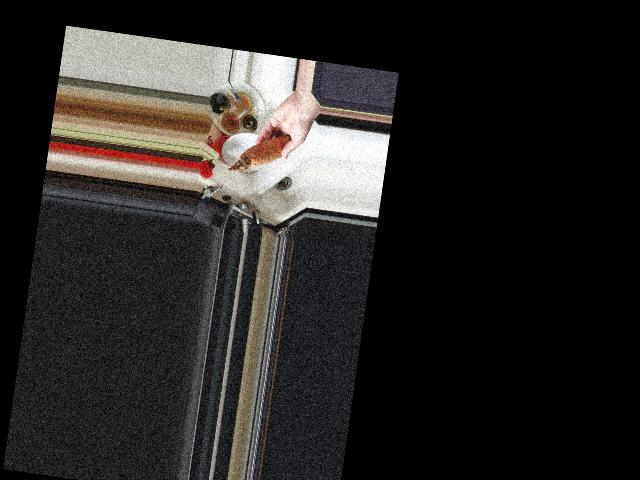sweet_potato: (226, 123, 297, 180)
